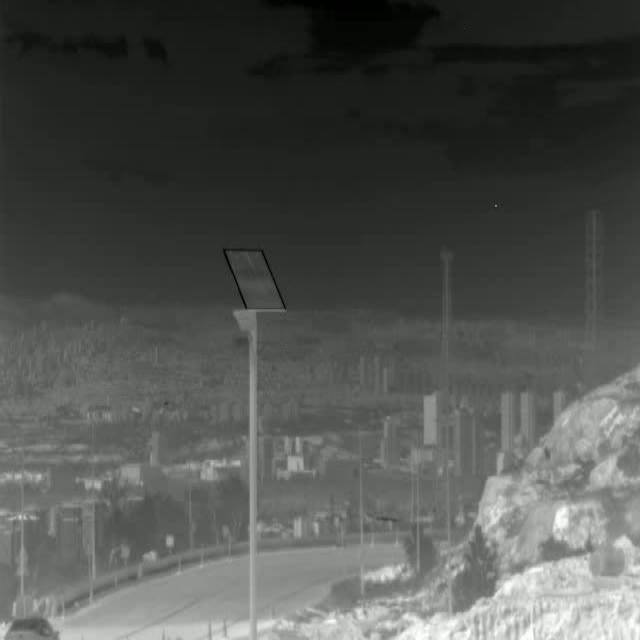Car: (1, 616, 58, 640)
